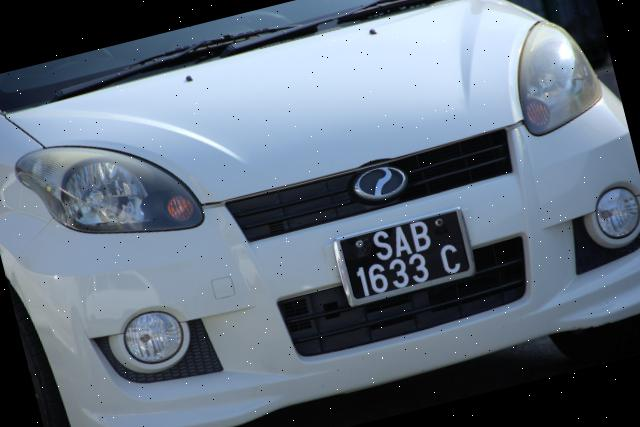License_Plate: (336, 210, 473, 302)
car: (1, 1, 640, 427)
